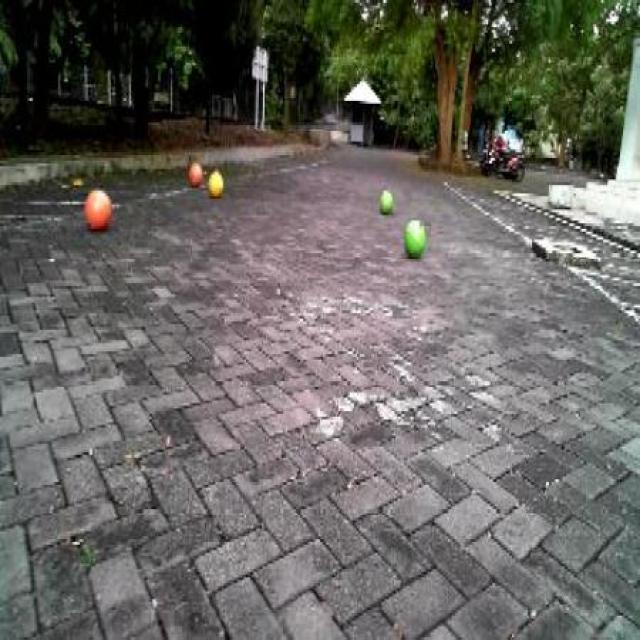buoy: (78, 176, 118, 241), (399, 212, 429, 264), (374, 180, 398, 220), (205, 161, 226, 202), (183, 154, 205, 192)
